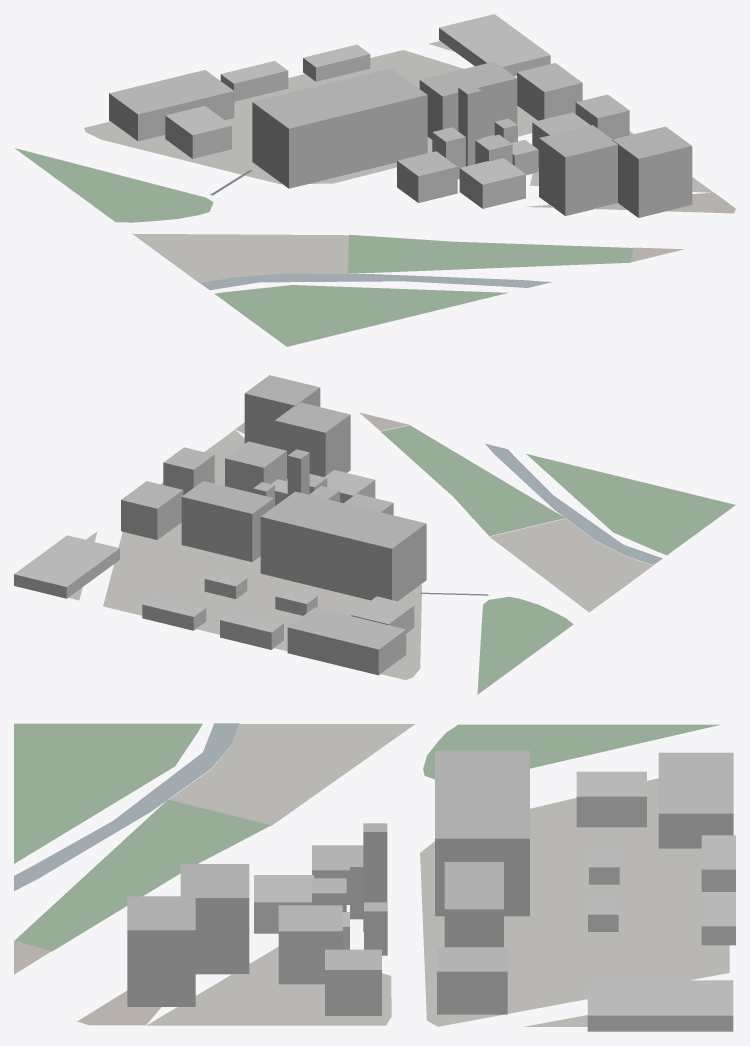
Rendered from 123_74_mid.glb.
3 views of the same model, one above another, from view 1: azimuth 30°, elevation 25°; view 2: azimuth 150°, elevation 25°; view 3: azimuth 270°, elevation 25° (orthographic). The views are drawn at different scales.
Bounding box in the file's own units: 507 × 78.22 × 504.
